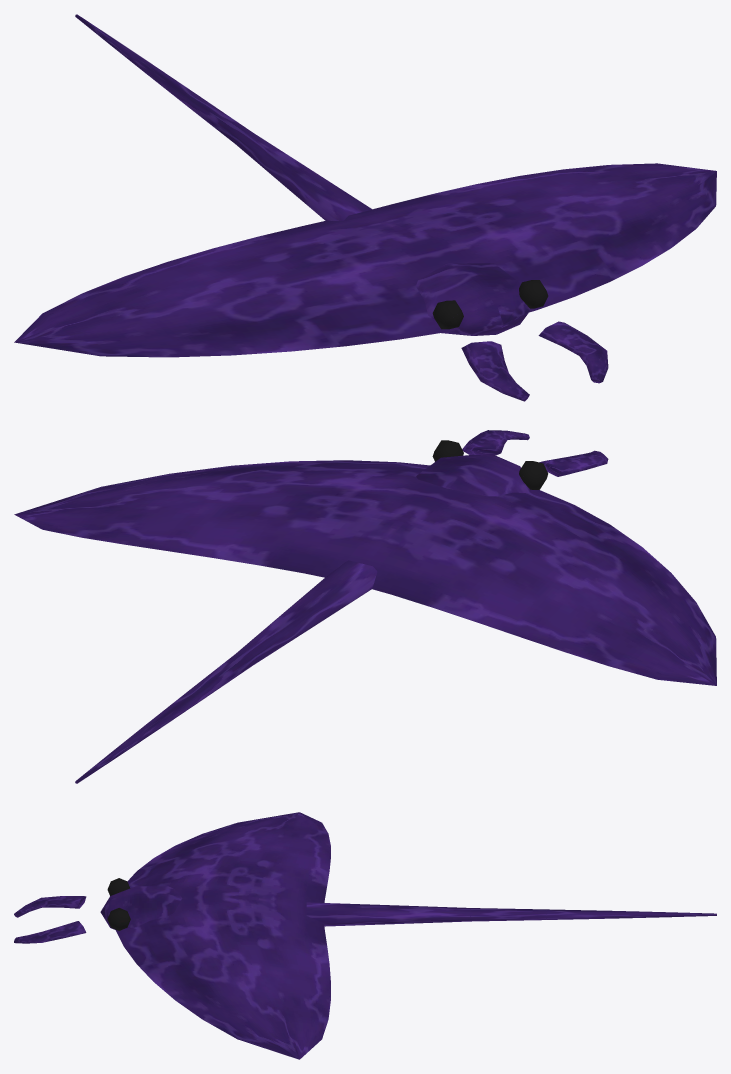
File: alien_aurora_ray.glb
3 views of the same model, one above another, from view 1: azimuth 30°, elevation 25°; view 2: azimuth 150°, elevation 25°; view 3: azimuth 270°, elevation 25° (orthographic). The views are drawn at different scales.
Size of the model in its own units: 3 by 0.2349 by 3.6.
Materials: 1 (1 with a texture image).
